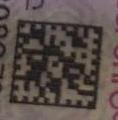datamatrix: (10, 20, 104, 111)
